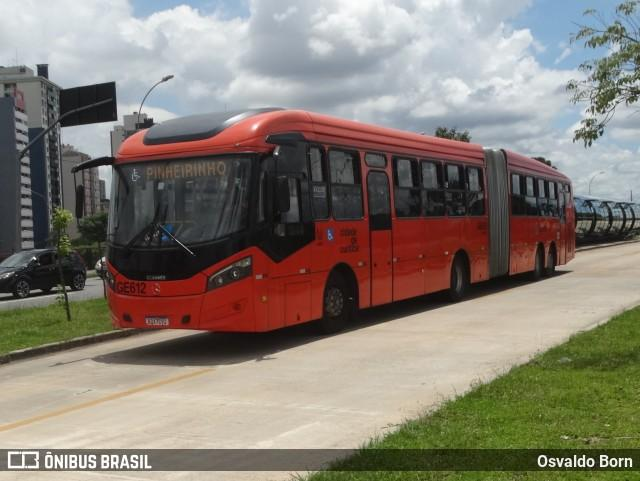PINHEIRINHO: (140, 157, 229, 183)
